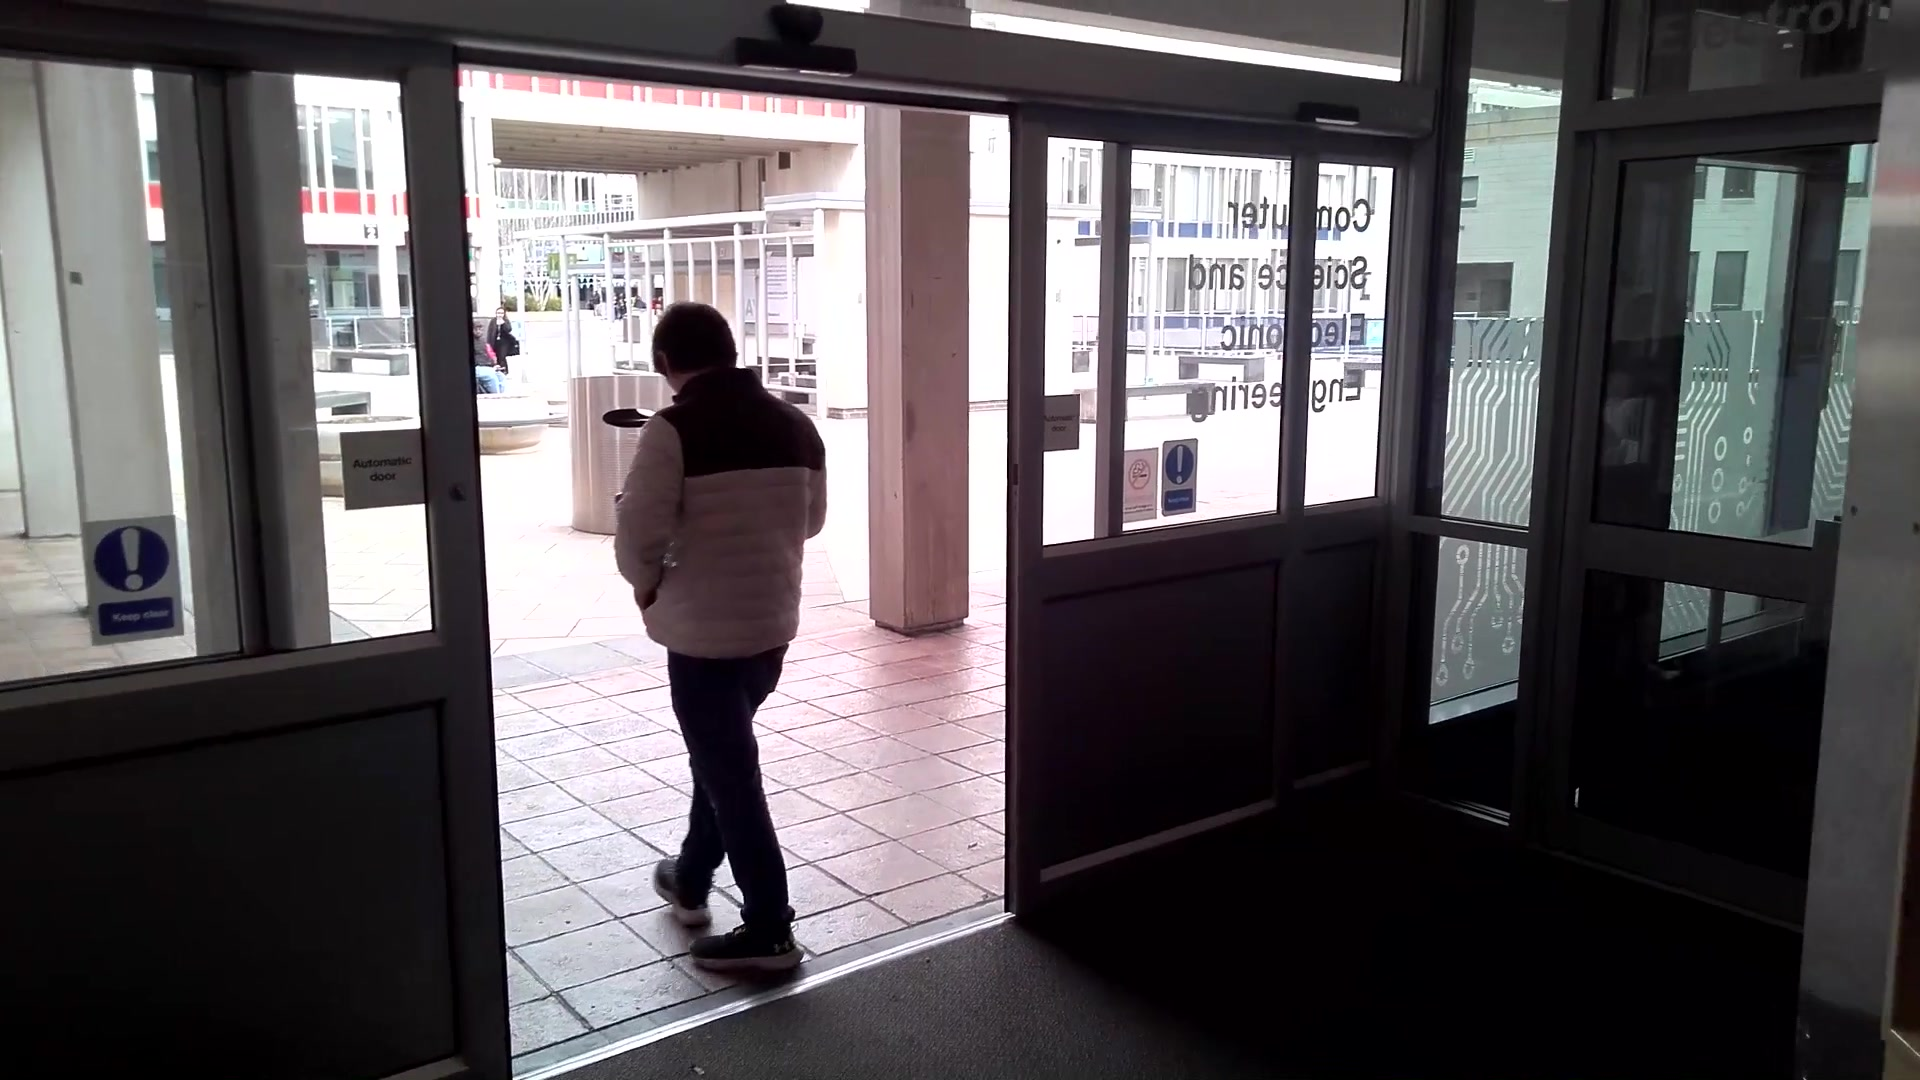Person: (629, 301, 836, 1002)
